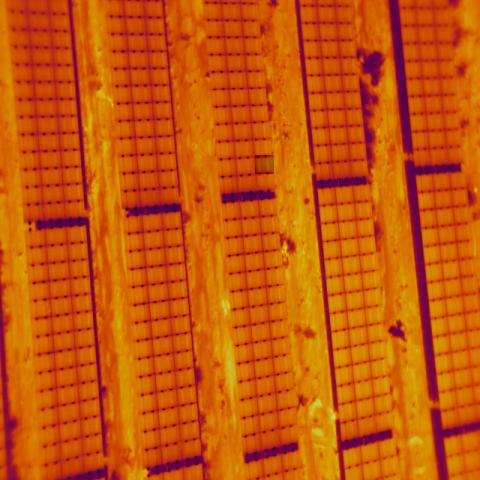fault: (255, 155, 274, 174)
